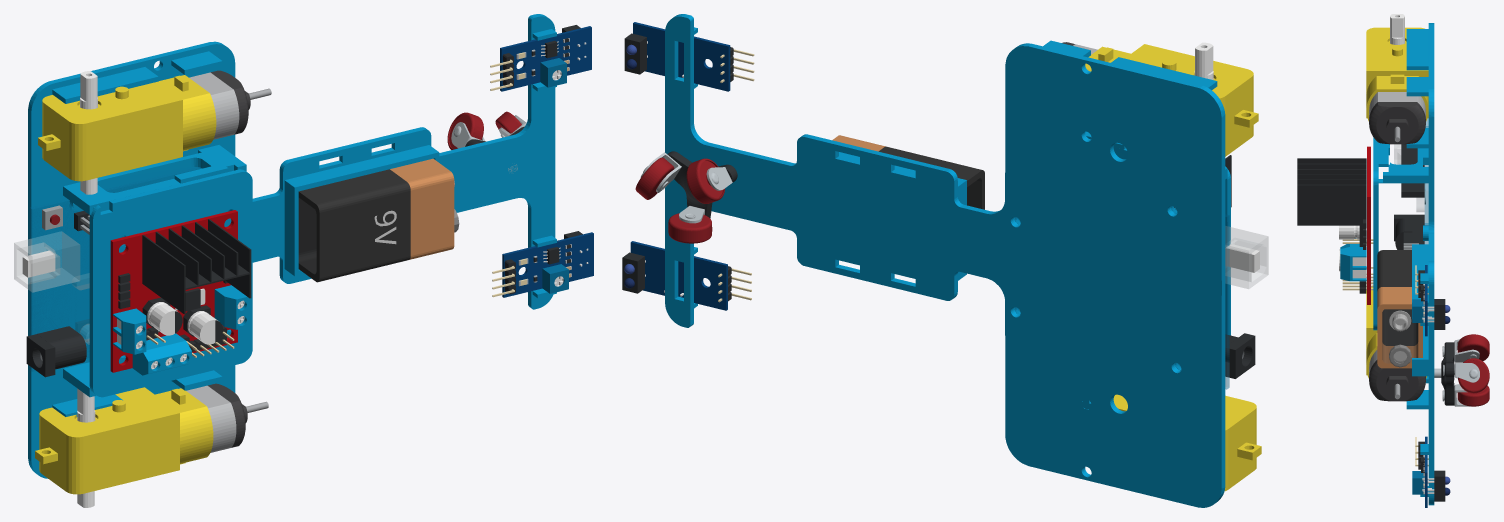
Rendered from chassis_complete.obj.
3 views of the same model, side by side, from view 1: azimuth 30°, elevation 25°; view 2: azimuth 150°, elevation 25°; view 3: azimuth 270°, elevation 25° (orthographic). The views are drawn at different scales.
Parts seen in each view (by area): view 1: obj_0, obj_1, obj_7, obj_6, obj_5, obj_2, obj_3, obj_4, obj_10; view 2: obj_0, obj_6, obj_10, obj_3, obj_4, obj_2, obj_7, obj_5; view 3: obj_0, obj_1, obj_6, obj_5, obj_10, obj_7, obj_2, obj_4, obj_3.
Part boxes in pixels (left/top/right/bottom): obj_0: left=28, top=14, right=556, bottom=478; obj_1: left=110, top=210, right=251, bottom=375; obj_7: left=35, top=383, right=268, bottom=507; obj_6: left=38, top=70, right=271, bottom=194; obj_5: left=298, top=158, right=459, bottom=282; obj_2: left=14, top=167, right=231, bottom=377; obj_3: left=490, top=25, right=591, bottom=91; obj_4: left=492, top=231, right=593, bottom=297; obj_10: left=447, top=111, right=526, bottom=171; obj_0: left=665, top=14, right=1230, bottom=507; obj_6: left=1062, top=42, right=1258, bottom=156; obj_10: left=635, top=151, right=737, bottom=243; obj_3: left=624, top=22, right=754, bottom=91; obj_4: left=622, top=241, right=751, bottom=310; obj_2: left=1015, top=206, right=1268, bottom=389; obj_7: left=1113, top=394, right=1261, bottom=491; obj_5: left=832, top=135, right=984, bottom=209; obj_0: left=1373, top=23, right=1434, bottom=505; obj_1: left=1297, top=146, right=1373, bottom=304; obj_6: left=1366, top=14, right=1428, bottom=144; obj_5: left=1377, top=250, right=1422, bottom=368; obj_10: left=1434, top=334, right=1489, bottom=406; obj_7: left=1366, top=285, right=1426, bottom=401; obj_2: left=1394, top=118, right=1428, bottom=249; obj_4: left=1412, top=436, right=1450, bottom=507; obj_3: left=1412, top=265, right=1450, bottom=336.
Size of the model in its own units: 200 by 141 by 69.4.
